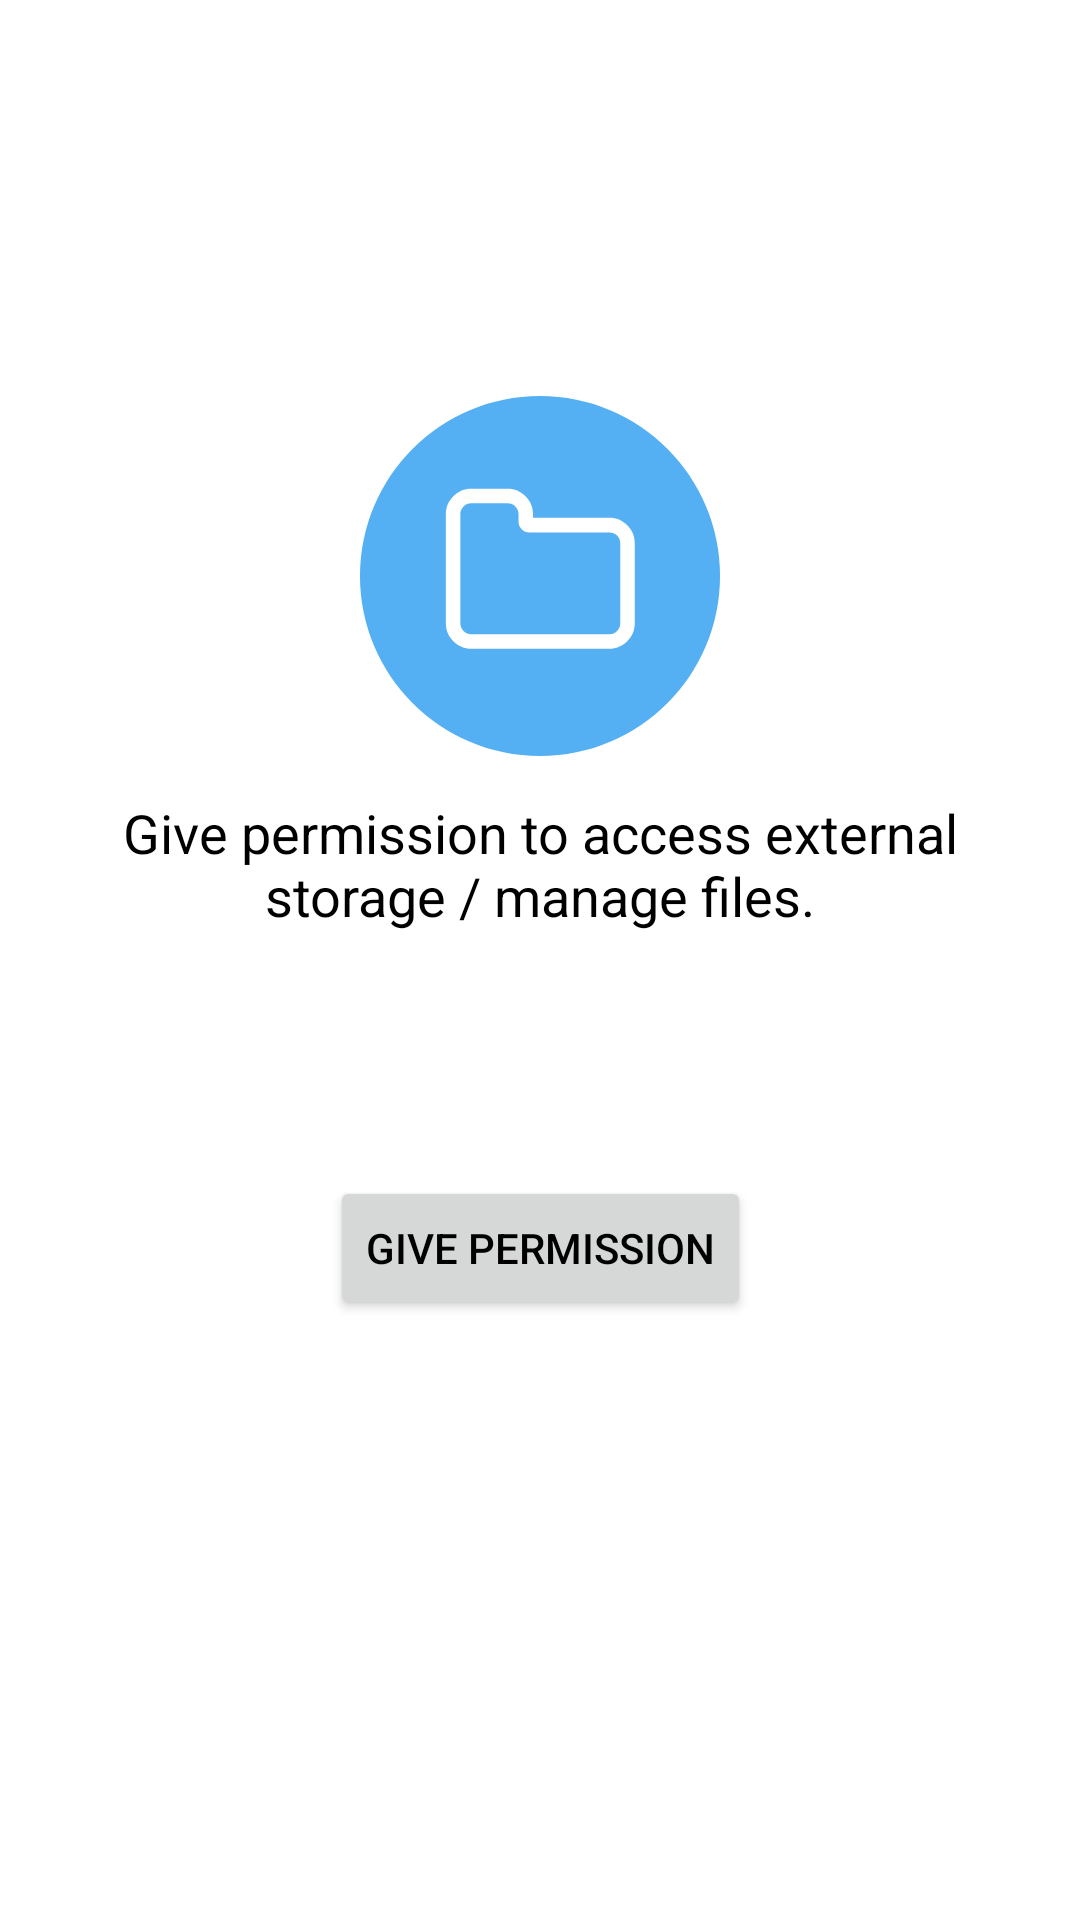

Where to tap for icons on this 1080x1920 app screen, as (x,y):
folder: (540,576)
